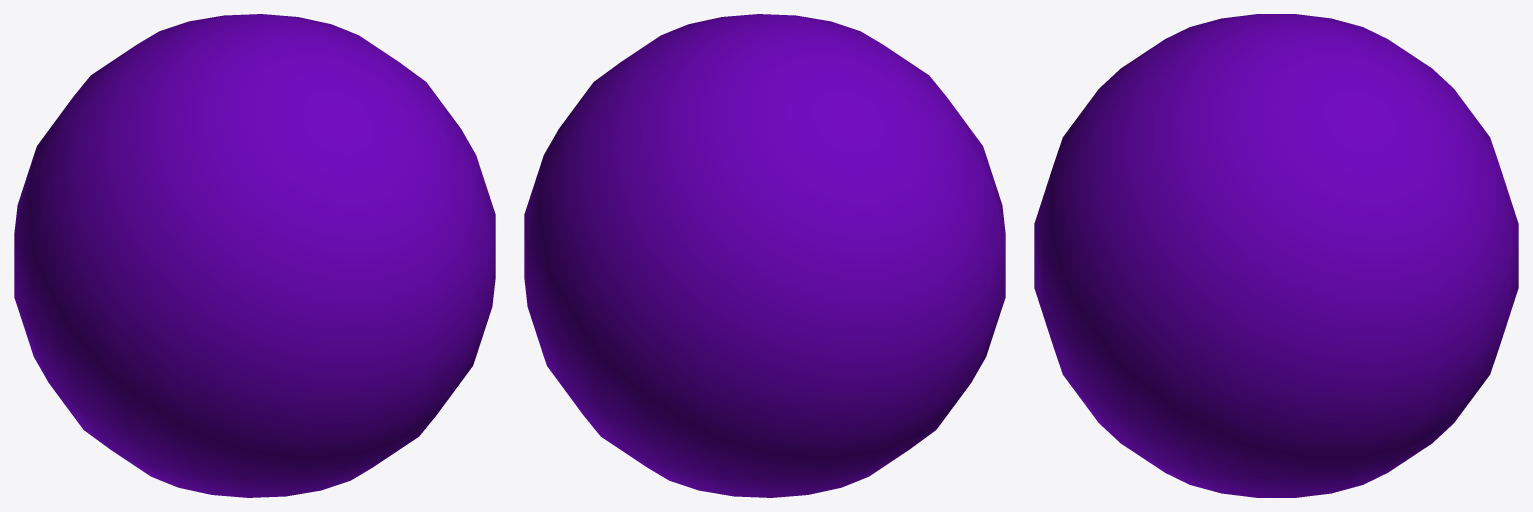
The model's file is bb8_2esph 2.FBX.
The picture shows the model from 3 angles, left to right: view 1: azimuth 30°, elevation 25°; view 2: azimuth 150°, elevation 25°; view 3: azimuth 270°, elevation 25°; orthographic projection.
Parts seen in each view (by area): view 1: Object001; view 2: Object001; view 3: Object001.
Part boxes in pixels (box(x1,y1,x2,y2)): Object001: box(14, 14, 495, 497); Object001: box(524, 14, 1005, 497); Object001: box(1034, 14, 1518, 497).
Size of the model in its own units: 20.66 by 21.09 by 20.87.
